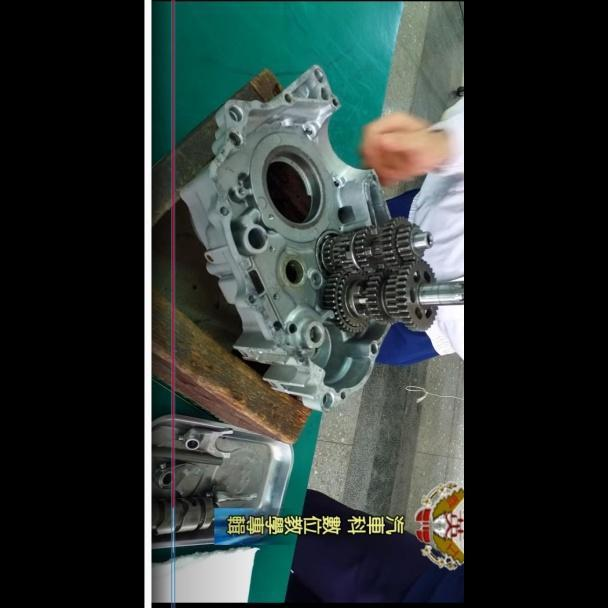hole: (226, 132, 242, 147), (245, 294, 257, 304), (235, 186, 244, 197), (267, 212, 275, 222), (268, 245, 276, 254), (272, 292, 279, 301)
